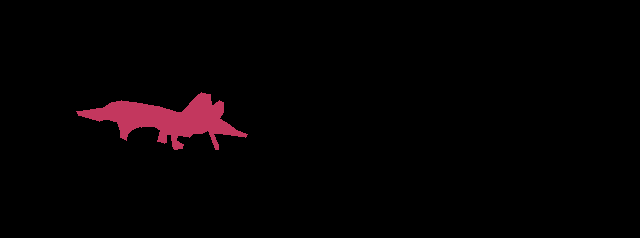Airplane: (76, 92, 248, 150)
